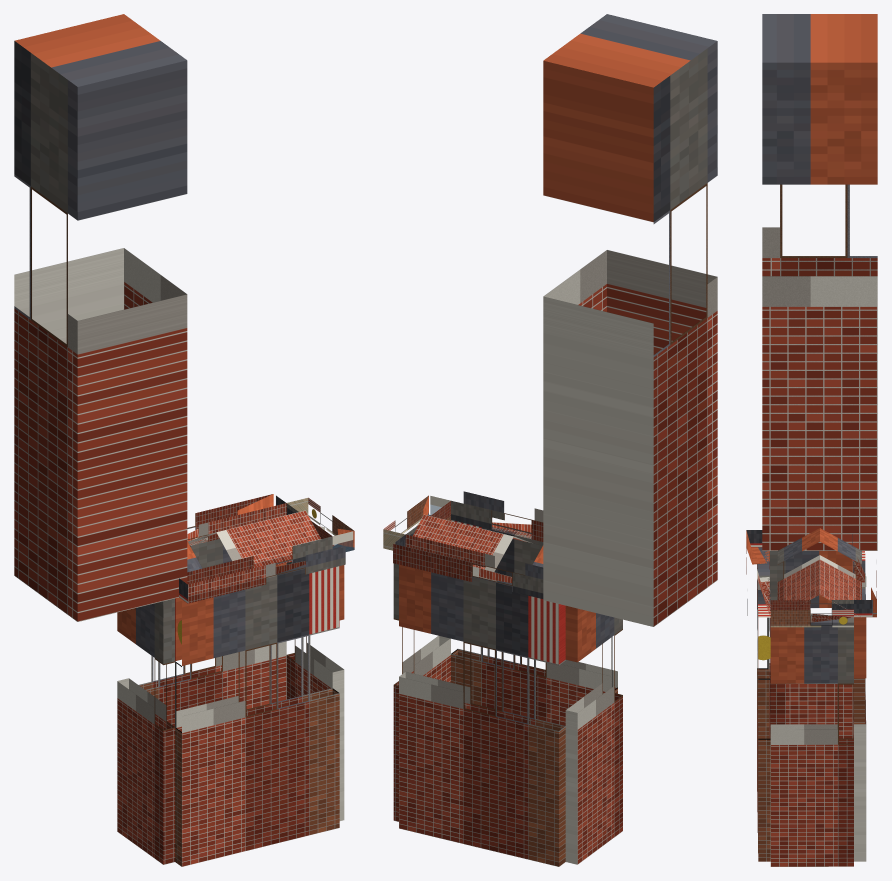
3 views of the same model, side by side, from view 1: azimuth 30°, elevation 25°; view 2: azimuth 150°, elevation 25°; view 3: azimuth 270°, elevation 25° (orthographic). The views are drawn at different scales.
Parts seen in each view (by area): view 1: 1106965479__chimney_0_xb, 1106965479__wall_2_xb, 1106965479__wall_3_xb, 1106965479__wall_0_xb, 1106965479__cornice_2, 1106965479_roof_-1_xb, 1106965479__wall_1_xb, 1106965479__cornice_0, 1106965479__cornice_1; view 2: 1106965479__chimney_0_xb, 1106965479__wall_0_xb, 1106965479__wall_3_xb, 1106965479__wall_2_xb, 1106965479__cornice_0, 1106965479__wall_1_xb, 1106965479_roof_1_xb, 1106965479__cornice_2, 1106965479__cornice_1; view 3: 1106965479__chimney_0_xb, 1106965479__wall_1_xb, 1106965479__wall_3_xb, 1106965479__wall_2_xb, 1106965479__wall_0_xb, 1106965479_roof_-1_xb, 1106965479_roof_1_xb, 1106965479__cornice_1, 1106965479__cornice_2, 1106965479__cornice_0.
Part boxes in pixels (left/top/right/bottom): 1106965479__chimney_0_xb: left=14, top=14, right=187, bottom=621; 1106965479__wall_2_xb: left=175, top=564, right=339, bottom=866; 1106965479__wall_3_xb: left=117, top=598, right=174, bottom=864; 1106965479__wall_0_xb: left=139, top=535, right=286, bottom=726; 1106965479__cornice_2: left=179, top=536, right=345, bottom=603; 1106965479_roof_-1_xb: left=187, top=510, right=320, bottom=572; 1106965479__wall_1_xb: left=286, top=545, right=344, bottom=820; 1106965479__cornice_0: left=187, top=494, right=286, bottom=545; 1106965479__cornice_1: left=286, top=497, right=354, bottom=551; 1106965479__chimney_0_xb: left=543, top=14, right=717, bottom=626; 1106965479__wall_0_xb: left=399, top=564, right=565, bottom=866; 1106965479__wall_3_xb: left=565, top=605, right=622, bottom=864; 1106965479__wall_2_xb: left=451, top=520, right=617, bottom=725; 1106965479__cornice_0: left=393, top=534, right=543, bottom=598; 1106965479__wall_1_xb: left=393, top=520, right=450, bottom=821; 1106965479_roof_1_xb: left=413, top=514, right=543, bottom=576; 1106965479__cornice_2: left=451, top=491, right=543, bottom=541; 1106965479__cornice_1: left=383, top=495, right=450, bottom=550; 1106965479__chimney_0_xb: left=762, top=14, right=877, bottom=550; 1106965479__wall_1_xb: left=770, top=617, right=853, bottom=866; 1106965479__wall_3_xb: left=769, top=551, right=852, bottom=738; 1106965479__wall_2_xb: left=757, top=551, right=770, bottom=861; 1106965479__wall_0_xb: left=852, top=551, right=866, bottom=861; 1106965479_roof_-1_xb: left=777, top=528, right=819, bottom=603; 1106965479_roof_1_xb: left=820, top=528, right=861, bottom=617; 1106965479__cornice_1: left=770, top=600, right=853, bottom=627; 1106965479__cornice_2: left=746, top=530, right=770, bottom=616; 1106965479__cornice_0: left=852, top=534, right=876, bottom=617.
Size of the model in its own units: 0.3854 by 1.05 by 0.1705.
1 material, 1 textured.
